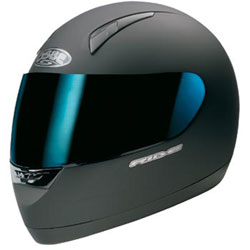helmet: (9, 8, 238, 219)
